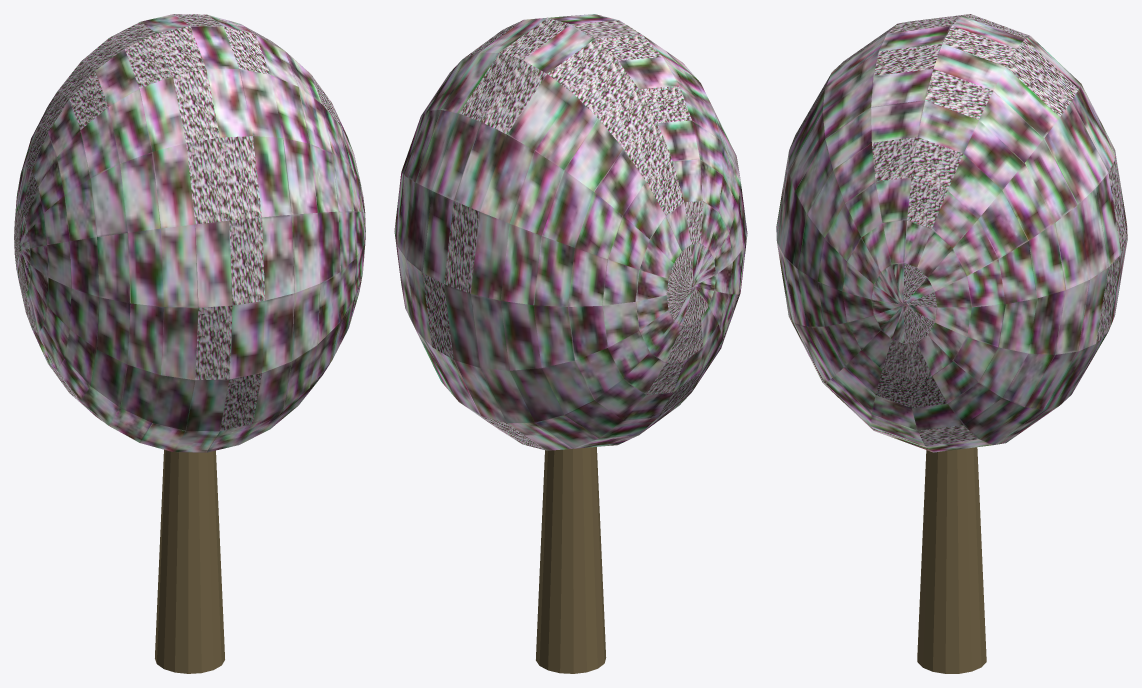
File: GMLID_SO0107241_3793_12555.dae
3 renders of one model, left to right at view 1: azimuth 30°, elevation 25°; view 2: azimuth 150°, elevation 25°; view 3: azimuth 270°, elevation 25°, orthographic.
Size of the model in its own units: 6.75 by 6.75 by 13.43.
2 materials, 1 textured.
